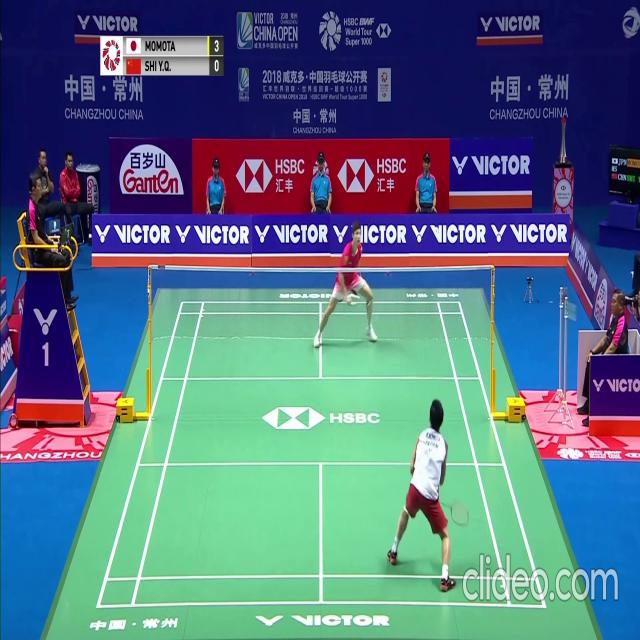Shuttlecock: (435, 226, 439, 234)
